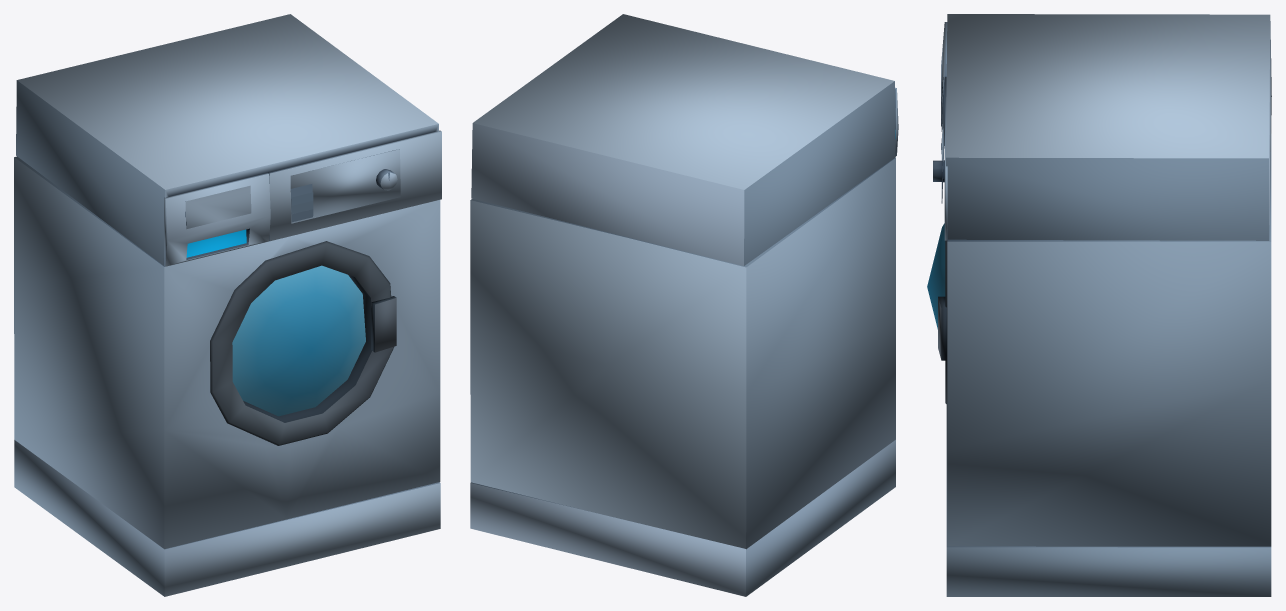
File: furnishings-indoor-washingmachine_v1.glb
3 renders of one model, left to right at view 1: azimuth 30°, elevation 25°; view 2: azimuth 150°, elevation 25°; view 3: azimuth 270°, elevation 25°, orthographic. The views are drawn at different scales.
Parts seen in each view (by area): view 1: WashingMachine_base, WashingMachine_transp; view 2: WashingMachine_base; view 3: WashingMachine_base, WashingMachine_transp.
Boxes of the visible parts, x1,y1,x2,y2 form: WashingMachine_base: [14, 14, 441, 596]; WashingMachine_transp: [232, 265, 365, 416]; WashingMachine_base: [470, 14, 898, 596]; WashingMachine_base: [933, 14, 1271, 596]; WashingMachine_transp: [927, 223, 945, 329].
Bounding box in the file's own units: 0.7262 × 1.02 × 0.7262.
